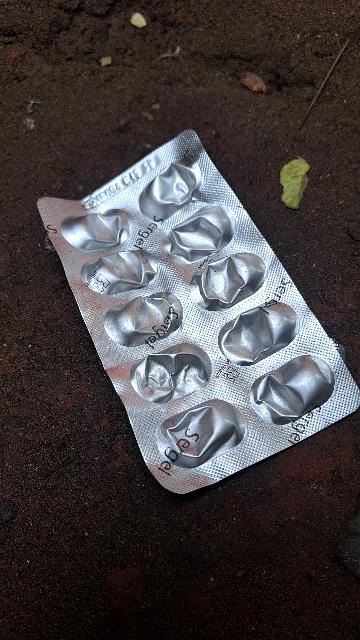medicine: (15, 100, 359, 497)
